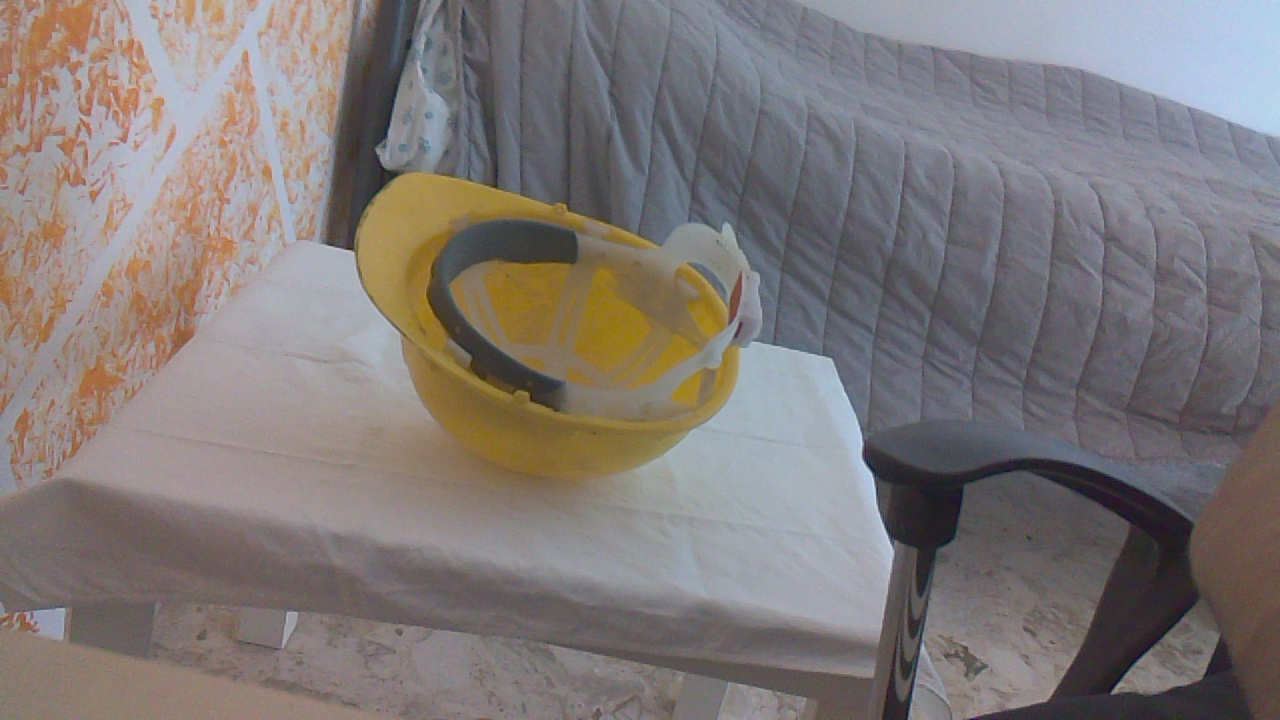Helmet: (357, 164, 761, 494)
